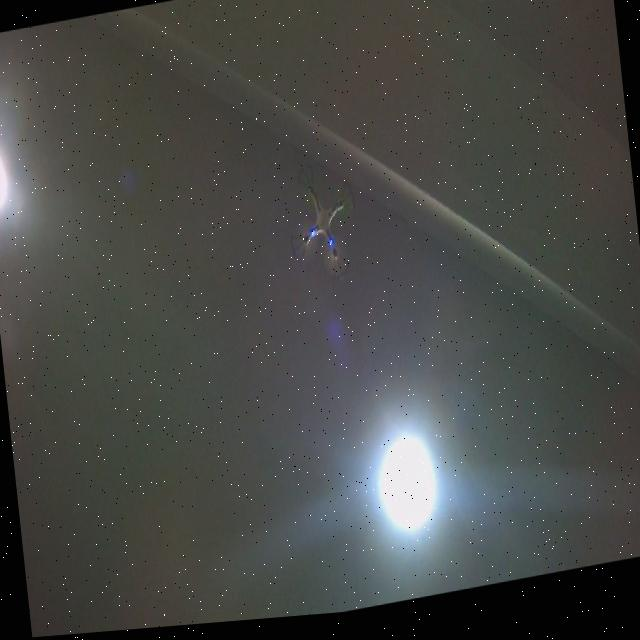drone: (278, 157, 367, 297)
